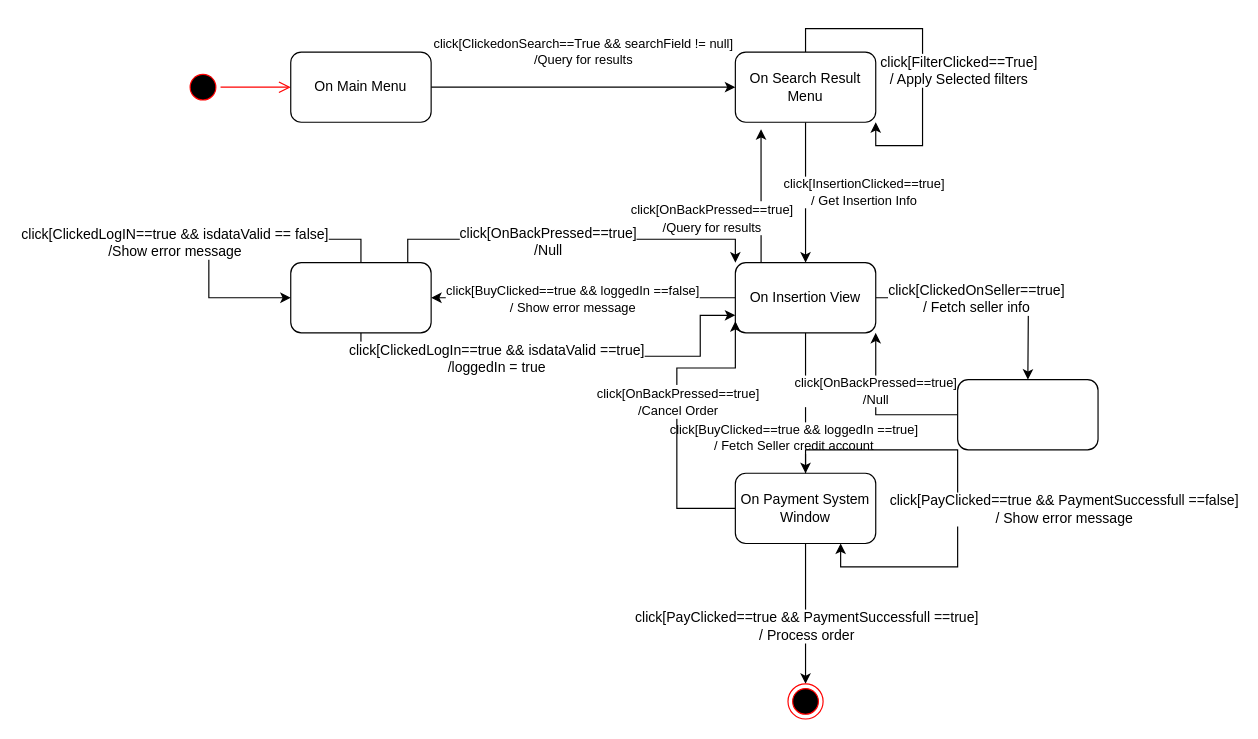
This 1258x739 diagram has some shape labels left out. The shapes that lost their labels are listed below. From the top down, each one's centre as x and y in pixels, then its label:
At pixel 360 297: "on Login Screen".
At pixel 1027 414: "On Seller Info View".
